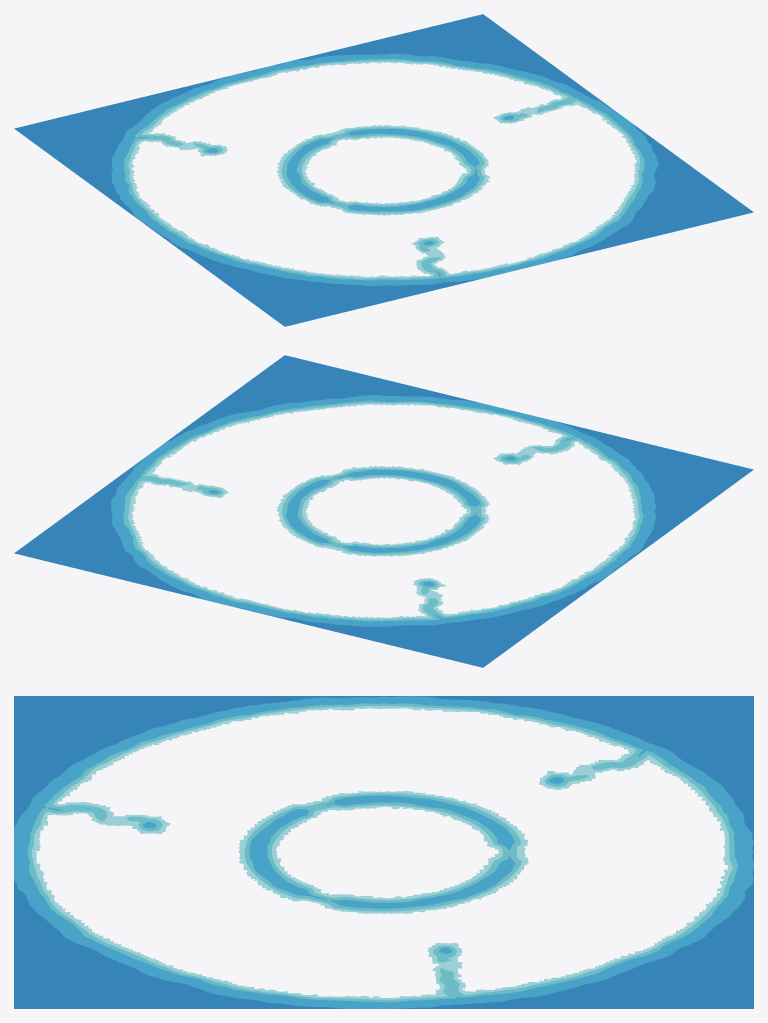
File: Inv-1-Water.fbx
3 renders of one model, top to bottom at view 1: azimuth 30°, elevation 25°; view 2: azimuth 150°, elevation 25°; view 3: azimuth 270°, elevation 25°, orthographic. The views are drawn at different scales.
Visible parts, largest first — view 1: Inv-1-Water; view 2: Inv-1-Water; view 3: Inv-1-Water.
Part boxes in pixels (bbox=[...]): Inv-1-Water: bbox=[14, 14, 753, 326]; Inv-1-Water: bbox=[14, 355, 753, 667]; Inv-1-Water: bbox=[14, 696, 753, 1008].
Bounding box in the file's own units: 200 × 0 × 200.
